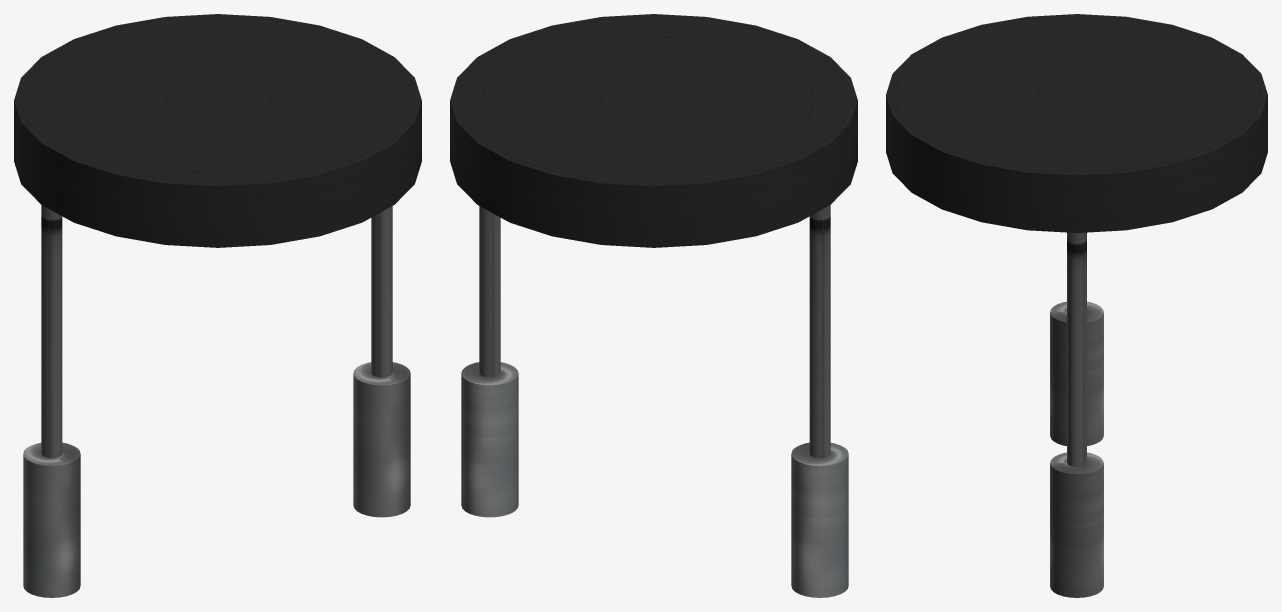
Rendered from bat.gltf.
3 renders of one model, left to right at view 1: azimuth 30°, elevation 25°; view 2: azimuth 150°, elevation 25°; view 3: azimuth 270°, elevation 25°, orthographic. The views are drawn at different scales.
Parts seen in each view (by area): view 1: Cylinder2, Cylinder6, Cylinder4, Cylinder5, Cylinder3; view 2: Cylinder2, Cylinder6, Cylinder4, Cylinder5, Cylinder3; view 3: Cylinder2, Cylinder4, Cylinder6, Cylinder3.
Boxes of the visible parts, x1,y1,x2,y2 form: Cylinder2: [14, 14, 421, 247]; Cylinder6: [23, 442, 80, 597]; Cylinder4: [353, 362, 410, 517]; Cylinder5: [41, 205, 62, 458]; Cylinder3: [371, 206, 392, 377]; Cylinder2: [450, 14, 857, 247]; Cylinder6: [791, 442, 848, 597]; Cylinder4: [461, 362, 518, 517]; Cylinder5: [809, 205, 830, 458]; Cylinder3: [479, 206, 500, 377]; Cylinder2: [886, 14, 1267, 232]; Cylinder4: [1050, 452, 1103, 597]; Cylinder6: [1050, 301, 1103, 445]; Cylinder3: [1067, 232, 1086, 466].
Bounding box in the file's own units: 1.61 × 1.81 × 1.5.
Materials: 5 (5 with a texture image).
